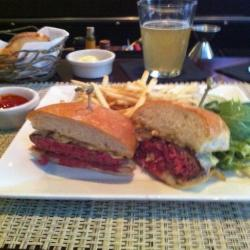burger: (23, 97, 142, 188), (124, 96, 226, 193)
fries: (74, 80, 149, 119)
ketchup: (1, 79, 41, 122)
salad: (209, 101, 250, 168)
